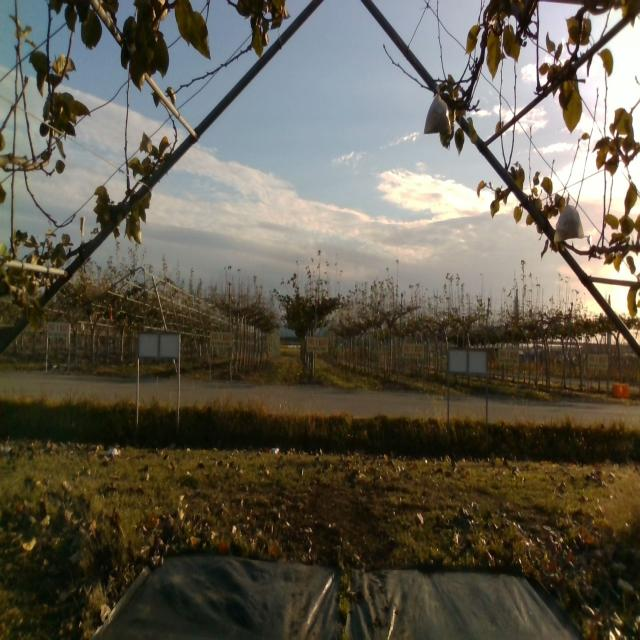pearbags: (553, 195, 585, 244), (423, 85, 452, 134)
